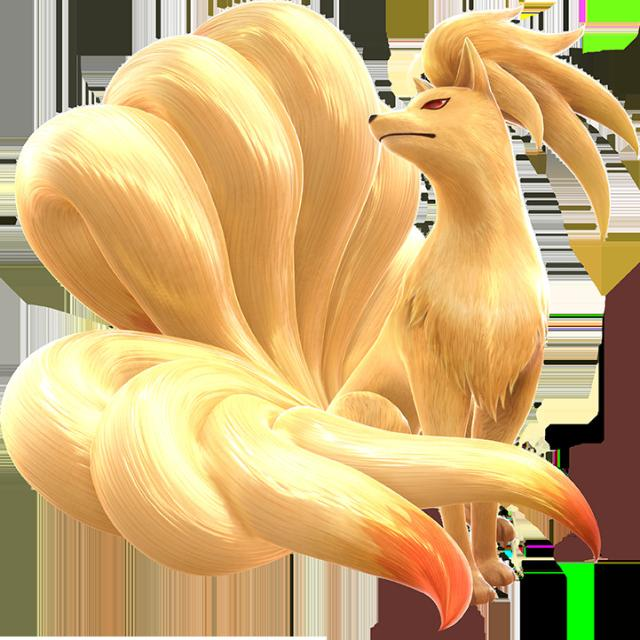Ninetales: (88, 0, 559, 601)
